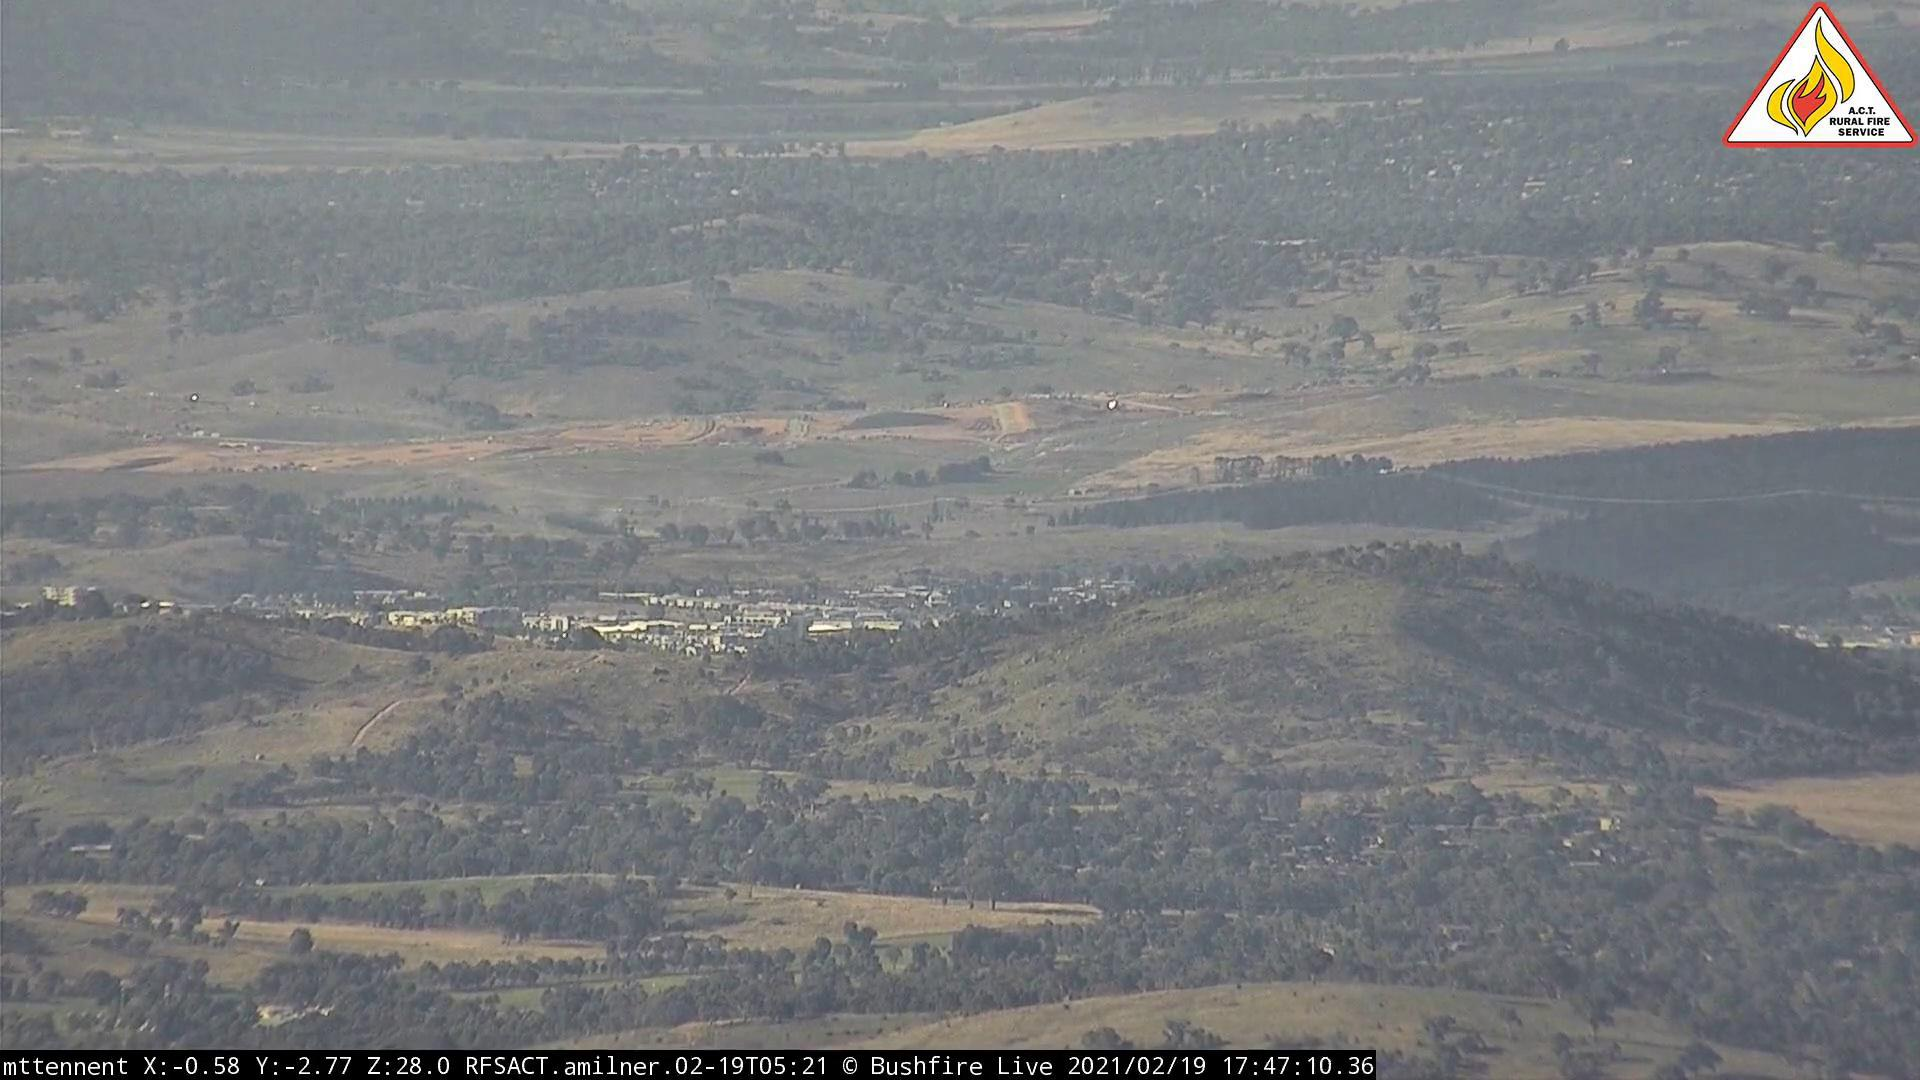Smoke: (498, 480, 670, 542), (721, 500, 767, 556)
